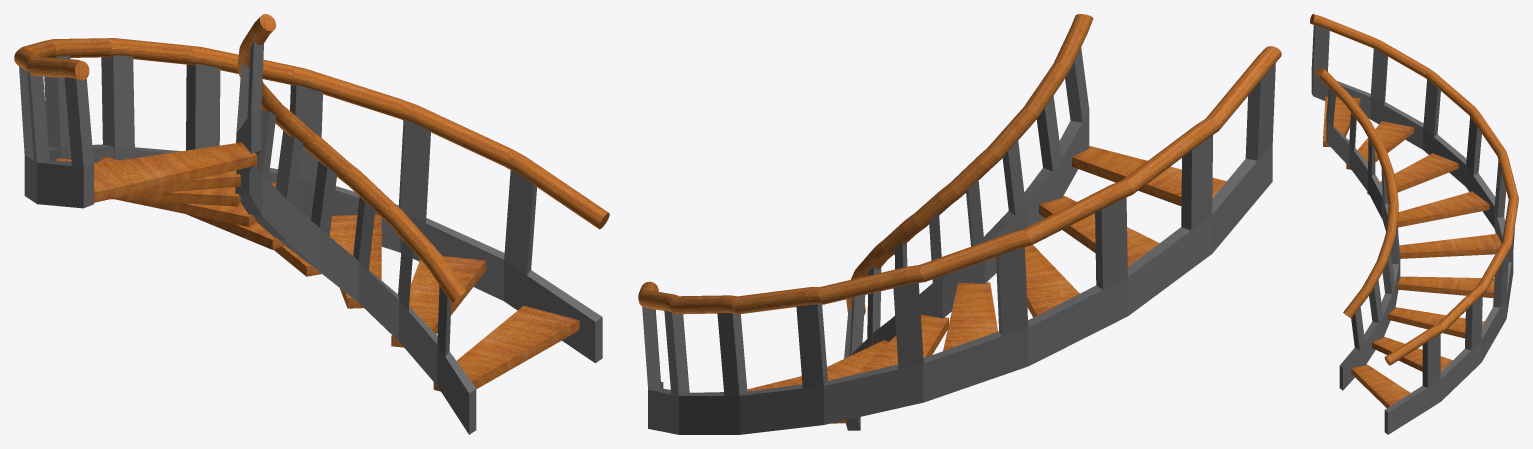
File: Stairs.fbx
3 views of the same model, side by side, from view 1: azimuth 30°, elevation 25°; view 2: azimuth 150°, elevation 25°; view 3: azimuth 270°, elevation 25° (orthographic). The views are drawn at different scales.
Parts seen in each view (by area): view 1: Stairs; view 2: Stairs; view 3: Stairs.
Boxes of the visible parts, x1,y1,x2,y2 form: Stairs: (14, 14, 609, 434); Stairs: (638, 14, 1281, 434); Stairs: (1310, 14, 1518, 434).
Size of the model in its own units: 836 by 646 by 462.
2 materials, 1 textured.
